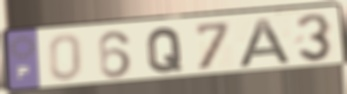0: (46, 32, 85, 84)
3: (291, 11, 336, 64)
6: (96, 29, 133, 81)
7: (194, 19, 233, 72)
A: (236, 16, 295, 69)
Q: (145, 26, 184, 75)
